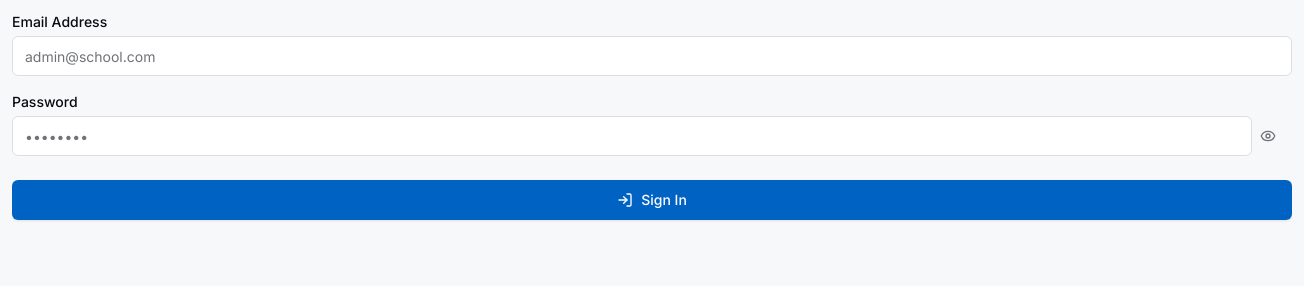
Scenario: LoginForm Component › should display validation errors when fields are empty or invalid
Click the button "Sign In" at (652, 200), box [12,180,1292,220]
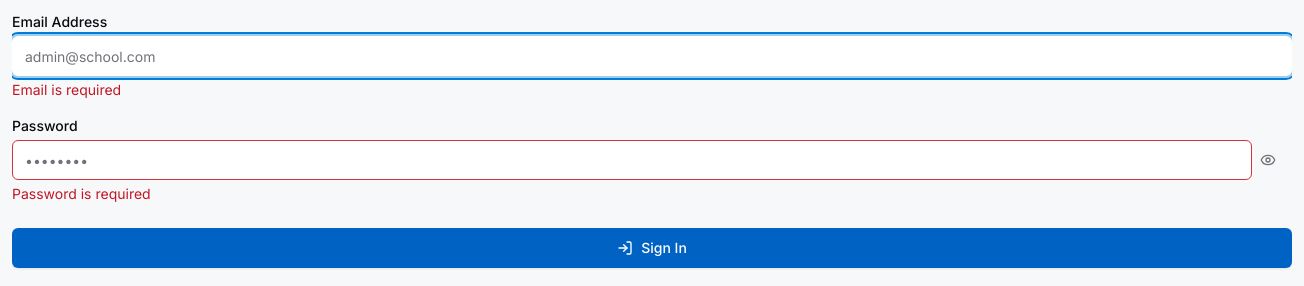
Expected: the text "Email is required" is shown, [12,81,121,98]
Expected: the text "Password is required" is shown, [12,185,151,202]
Note: Invalid email format
Type "not-an-email" into the field labelled "Email Address" at (652, 56), box [12,36,1292,76]
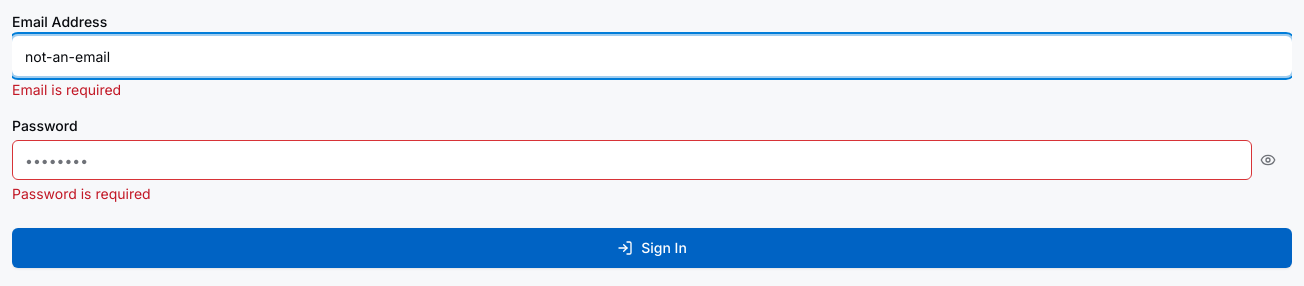
Click the button "Sign In" at (652, 248), box [12,228,1292,268]
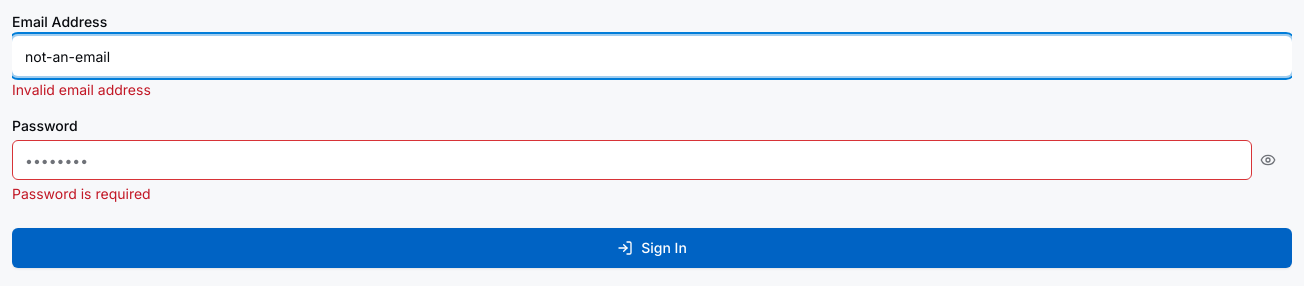
Expected: the text "Invalid email address" is shown, [12,81,151,98]
